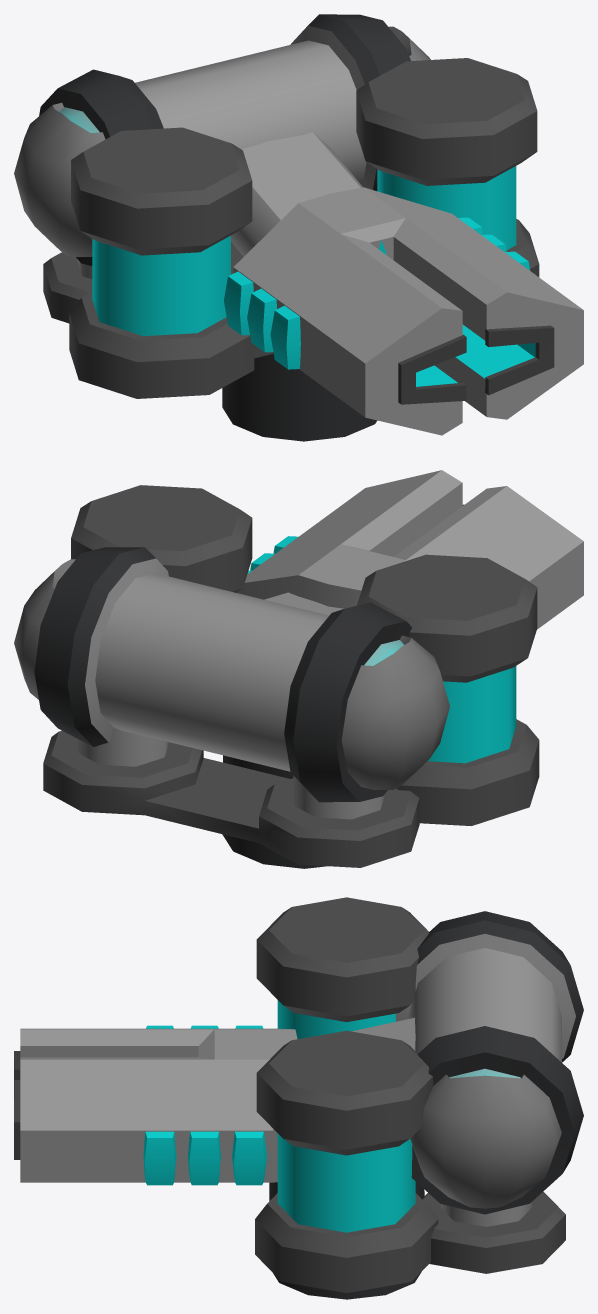
File: Laser_t_1_LP.fbx
3 views of the same model, one above another, from view 1: azimuth 30°, elevation 25°; view 2: azimuth 150°, elevation 25°; view 3: azimuth 270°, elevation 25° (orthographic). The views are drawn at different scales.
Visible parts, largest first — view 1: Laser_t_1; view 2: Laser_t_1; view 3: Laser_t_1.
Boxes of the visible parts, bbox=[...] form: Laser_t_1: bbox=[14, 14, 583, 441]; Laser_t_1: bbox=[14, 470, 583, 868]; Laser_t_1: bbox=[14, 897, 583, 1299].
Bounding box in the file's own units: 125 × 81.15 × 143.
